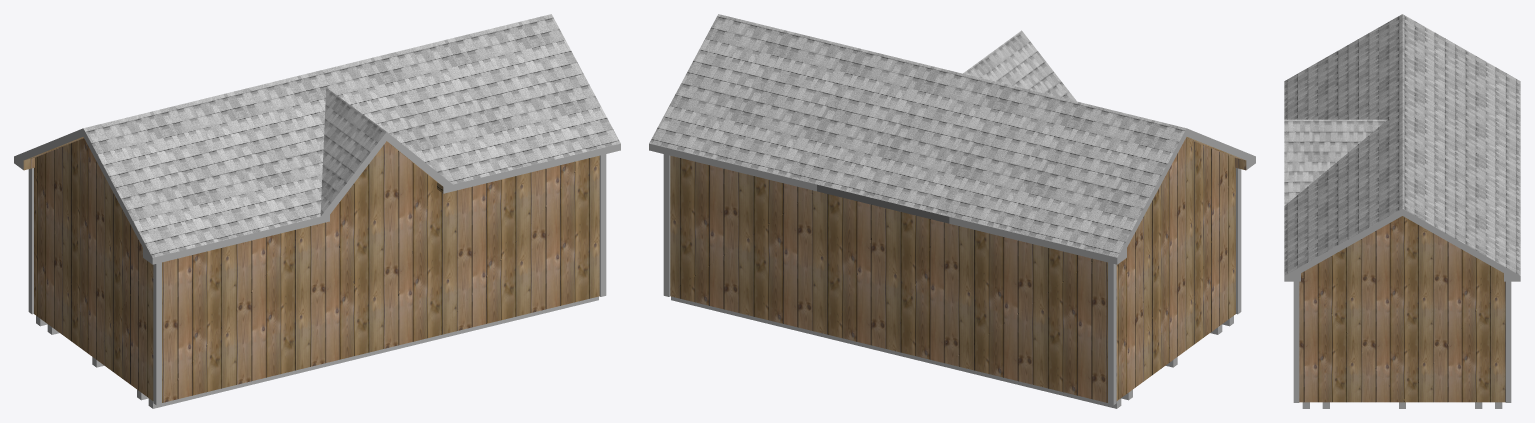
File: Victorian Shed_10x20.obj
The picture shows the model from 3 angles, left to right: view 1: azimuth 30°, elevation 25°; view 2: azimuth 150°, elevation 25°; view 3: azimuth 270°, elevation 25°; orthographic projection. The views are drawn at different scales.
Visible parts, largest first — view 1: Shed, Roof, Sides, Trim, Floor; view 2: Shed, Roof, Sides, Trim, Floor; view 3: Roof, Shed, Sides, Trim, Floor.
Part boxes in pixels (left/top/right/bottom): Shed: left=23, top=137, right=599, bottom=402; Roof: left=83, top=14, right=620, bottom=257; Sides: left=14, top=128, right=620, bottom=264; Trim: left=28, top=154, right=606, bottom=405; Floor: left=36, top=296, right=598, bottom=408; Shed: left=670, top=137, right=1246, bottom=402; Roof: left=649, top=14, right=1186, bottom=257; Sides: left=649, top=128, right=1255, bottom=264; Trim: left=663, top=154, right=1241, bottom=405; Floor: left=671, top=296, right=1233, bottom=408; Roof: left=1284, top=14, right=1520, bottom=275; Shed: left=1299, top=216, right=1505, bottom=402; Sides: left=1284, top=209, right=1520, bottom=281; Trim: left=1293, top=281, right=1511, bottom=402; Floor: left=1302, top=402, right=1502, bottom=408.
Bounding box in the file's own units: 6.4 × 3.14 × 3.28.
